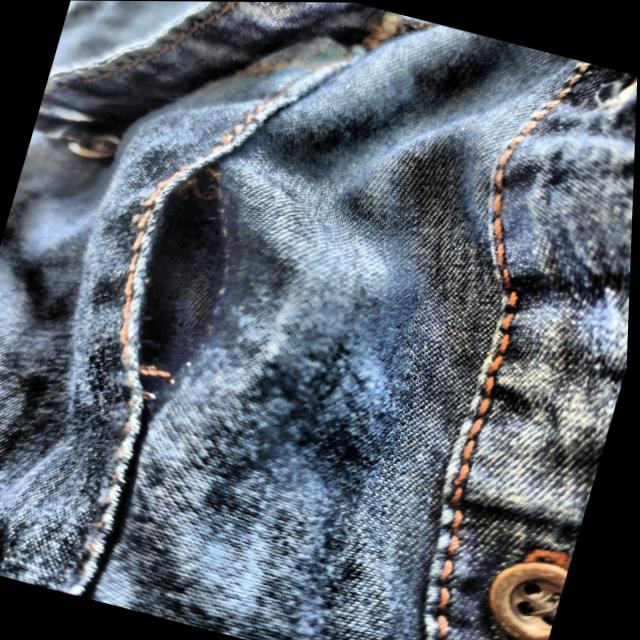seam: (71, 130, 307, 444)
